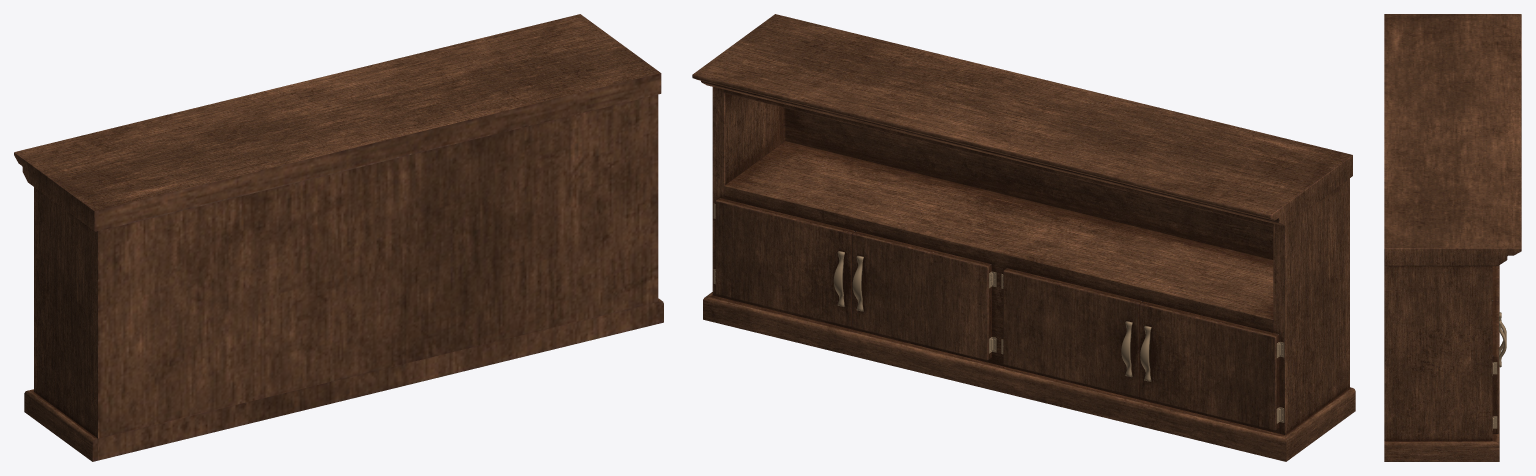
Rendered from shelf.glb.
3 views of the same model, side by side, from view 1: azimuth 30°, elevation 25°; view 2: azimuth 150°, elevation 25°; view 3: azimuth 270°, elevation 25° (orthographic). The views are drawn at different scales.
Visible parts, largest first — view 1: defaultobject; view 2: defaultobject; view 3: defaultobject.
Boxes of the visible parts, x1=… form: defaultobject: x1=14, y1=14, x2=663, y2=461; defaultobject: x1=692, y1=14, x2=1355, y2=461; defaultobject: x1=1384, y1=14, x2=1521, y2=461.
Size of the model in its own units: 2 by 0.837 by 0.4914.
Materials: 1 (1 with a texture image).
